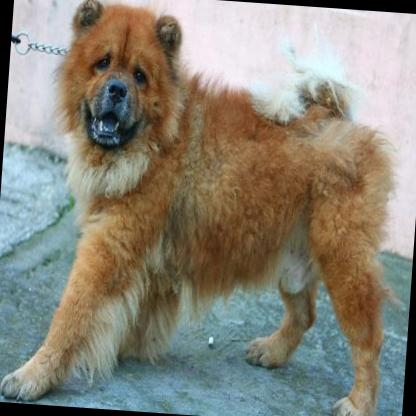chow: (0, 0, 406, 416)
